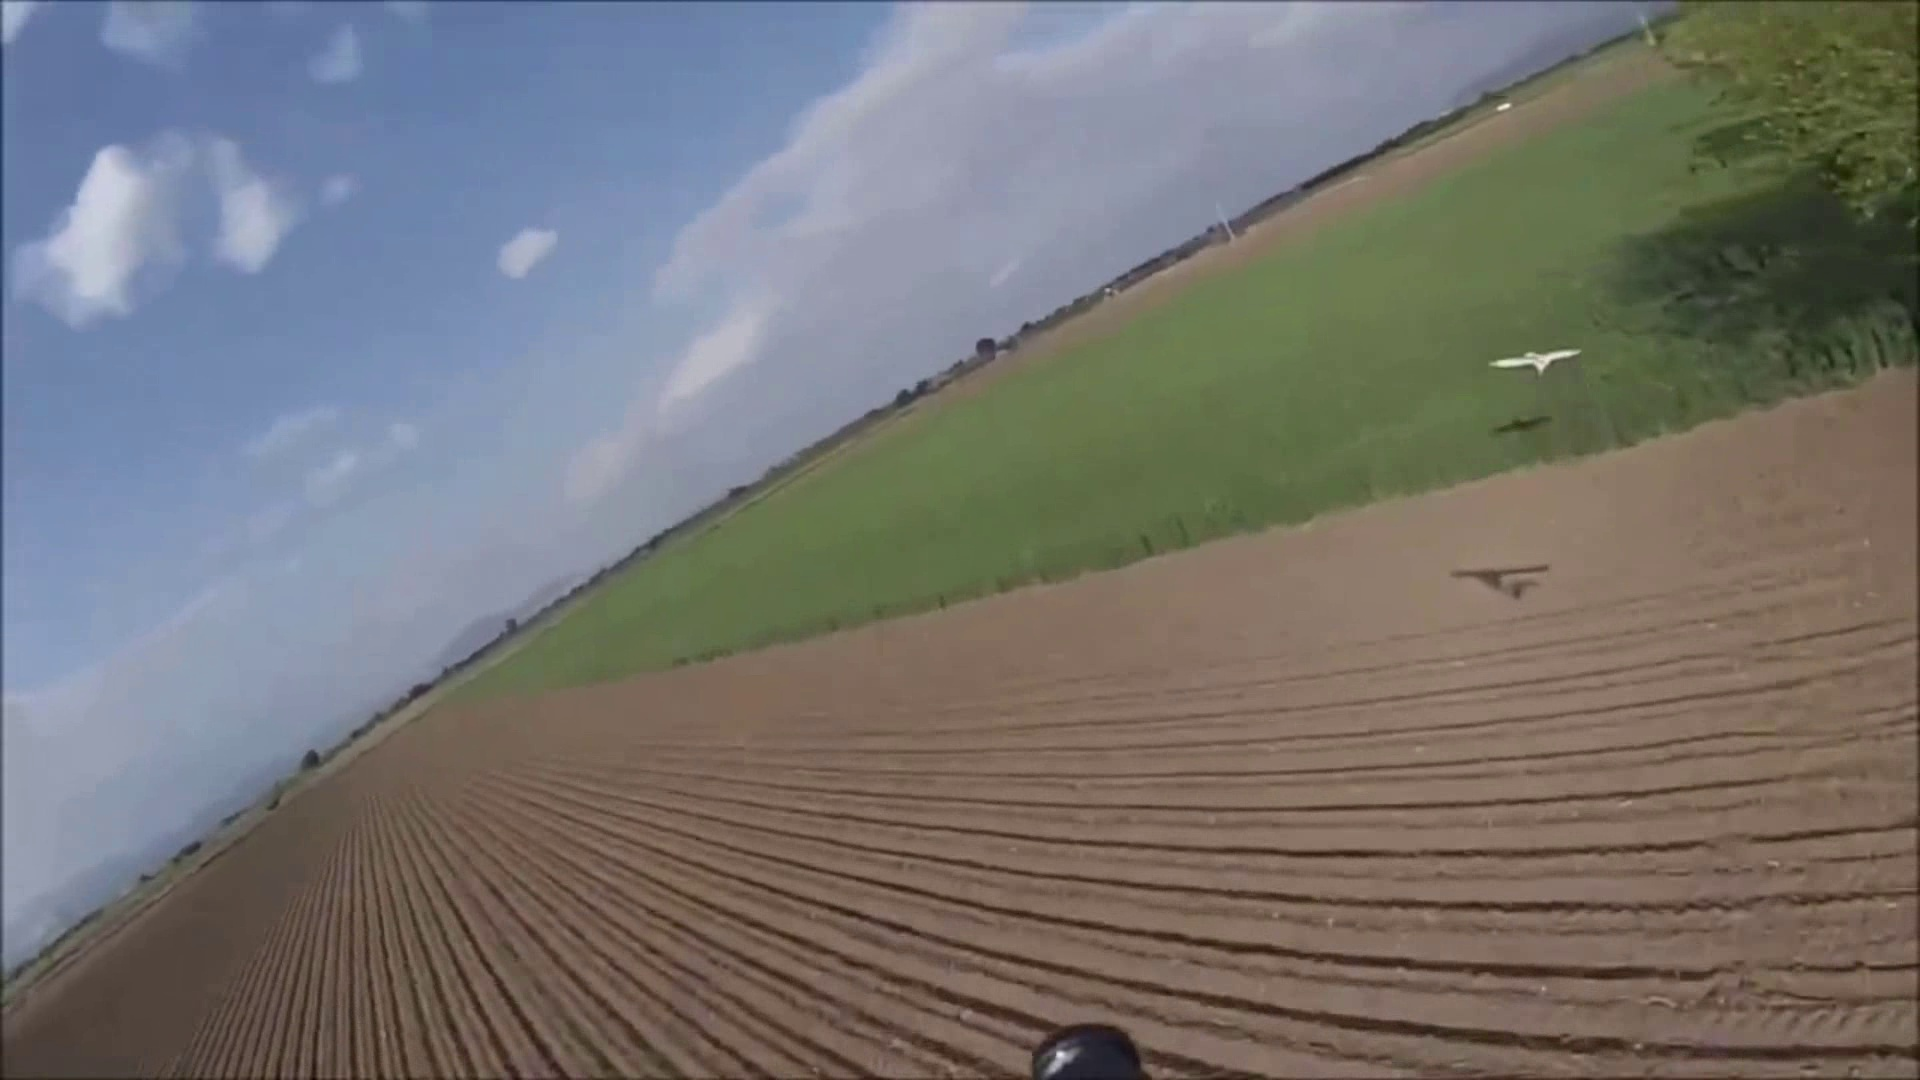airplane: (1487, 349, 1578, 375)
